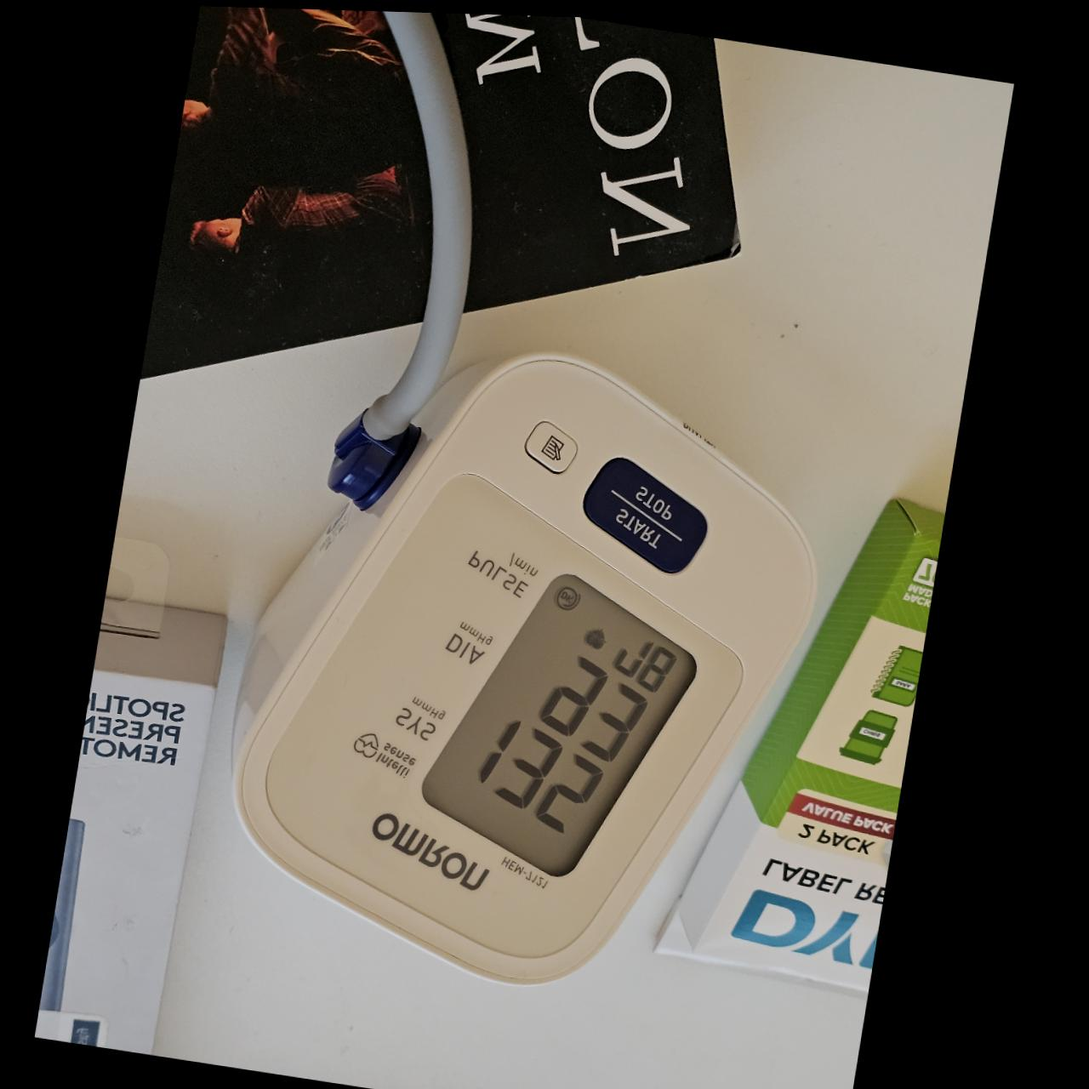blood pressure monitor: (179, 305, 852, 1031)
